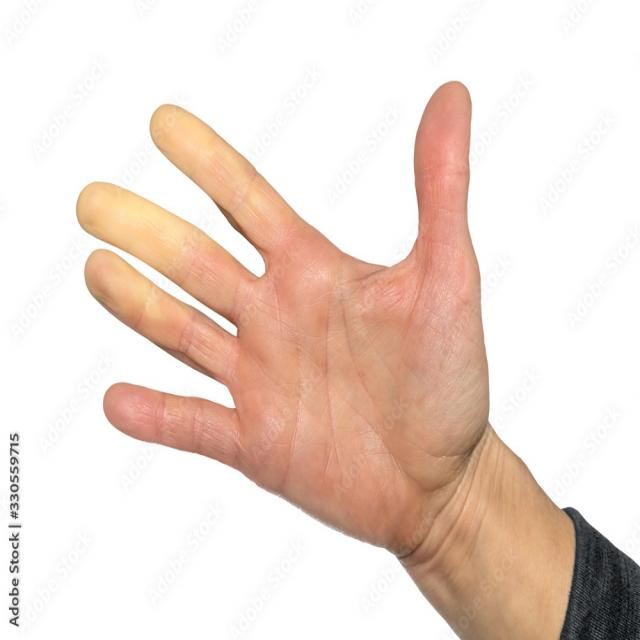raynauds: (62, 185, 205, 282)
